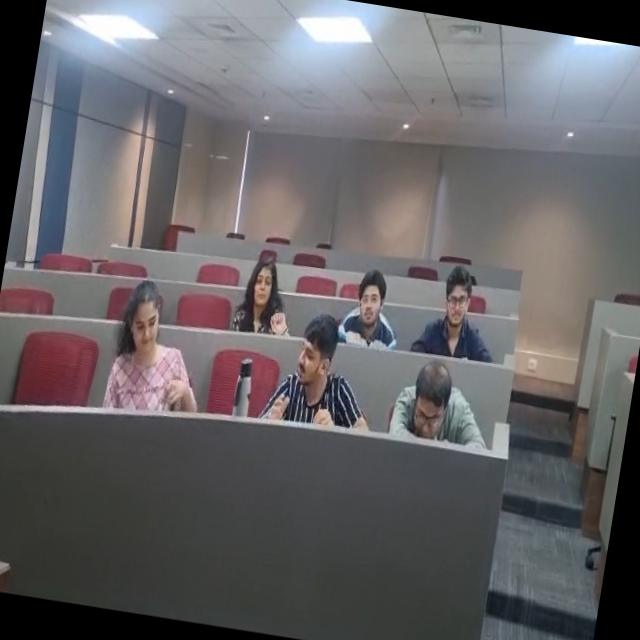cheating: (92, 259, 208, 433), (252, 302, 364, 448), (224, 232, 313, 346)
non-cheating: (406, 240, 504, 372), (376, 352, 484, 463), (331, 250, 416, 356)
